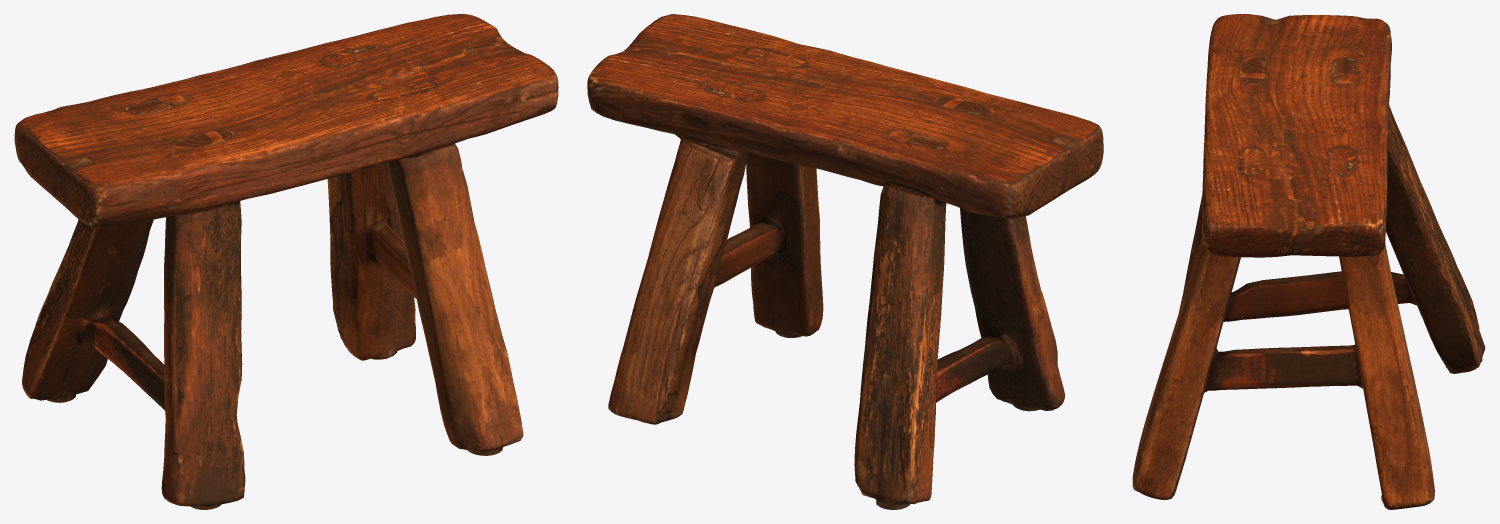
The model's file is wooden_stool_02_4k_bakedsample.glb.
3 views of the same model, side by side, from view 1: azimuth 30°, elevation 25°; view 2: azimuth 150°, elevation 25°; view 3: azimuth 270°, elevation 25° (orthographic). The views are drawn at different scales.
Parts seen in each view (by area): view 1: wooden_stool_02; view 2: wooden_stool_02; view 3: wooden_stool_02.
Boxes of the visible parts, x1,y1,x2,y2 form: wooden_stool_02: (14, 14, 558, 509); wooden_stool_02: (587, 14, 1103, 509); wooden_stool_02: (1132, 14, 1485, 509).
Size of the model in its own units: 0.2652 by 0.1819 by 0.1831.
Materials: 1 (1 with a texture image).
